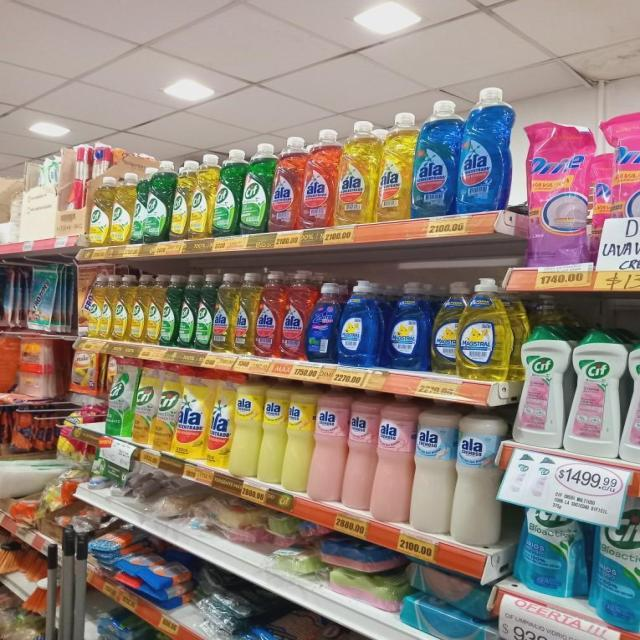ala_conc_amarillo: (337, 120, 377, 224), (378, 112, 412, 221), (234, 271, 255, 355), (213, 272, 234, 353)
ala_conc_azul: (459, 87, 513, 212), (413, 99, 458, 217)
ala_conc_rojo: (301, 129, 336, 229), (270, 136, 301, 232), (281, 270, 308, 360), (256, 270, 280, 358)
ala_crem_amarillo: (284, 379, 312, 494), (232, 373, 260, 478), (260, 376, 285, 486)
ala_crem_blanco: (453, 405, 505, 547), (412, 400, 453, 536)
ala_crem_rosado: (373, 392, 412, 524), (311, 382, 344, 503), (344, 388, 374, 512)
ala_sachet_amarillo: (176, 365, 207, 461), (207, 370, 232, 470)
cif_conc_bot_amarilla: (190, 154, 213, 238), (89, 175, 111, 246), (171, 159, 190, 240), (111, 172, 132, 245), (114, 274, 131, 342), (132, 274, 148, 343), (85, 269, 100, 338), (148, 274, 162, 345), (100, 273, 114, 339)
cif_conc_botella_verde: (241, 143, 270, 234), (213, 148, 240, 236), (144, 160, 170, 242), (196, 273, 212, 351), (179, 274, 195, 348), (162, 274, 178, 346), (132, 167, 146, 244)
cif_conc_sachet_amarillo: (155, 362, 177, 453), (134, 358, 156, 448)
cif_conc_sachet_verde: (106, 356, 133, 438)
magistral_con_amarillo: (460, 278, 512, 380), (431, 280, 460, 374)
magistral_con_azul: (386, 280, 430, 371), (338, 279, 381, 367)
